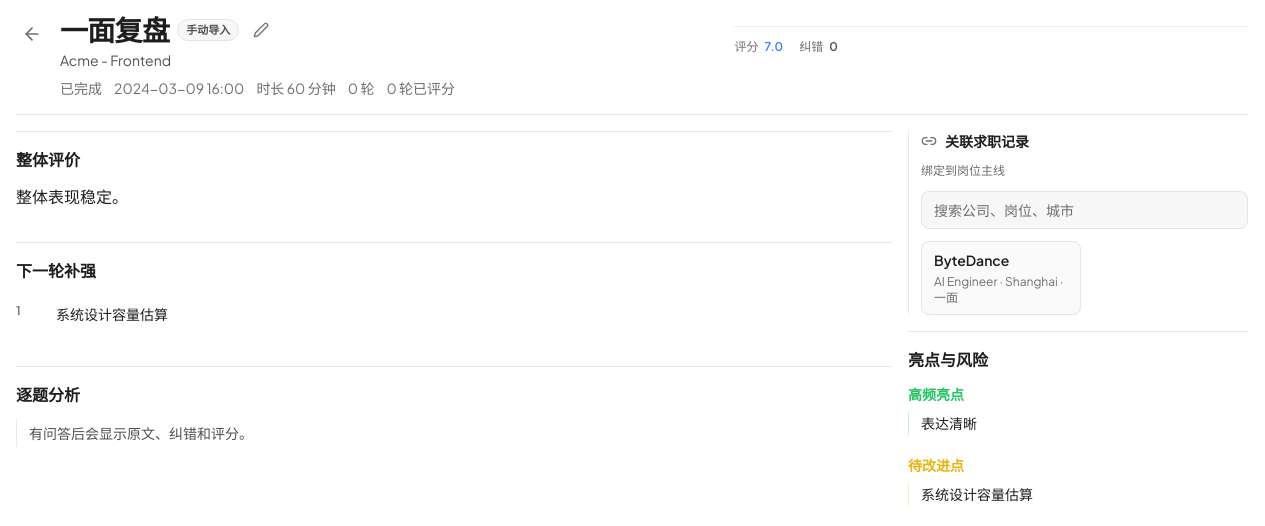
it: ReviewSessionDetail › binds a review session to a job tracker application
expect the heading "关联求职记录" is shown: met, box [921,131,1029,151]
Click the button "ByteDance AI Engineer · Shanghai · 一面" at (1001, 278), box [921,241,1080,315]
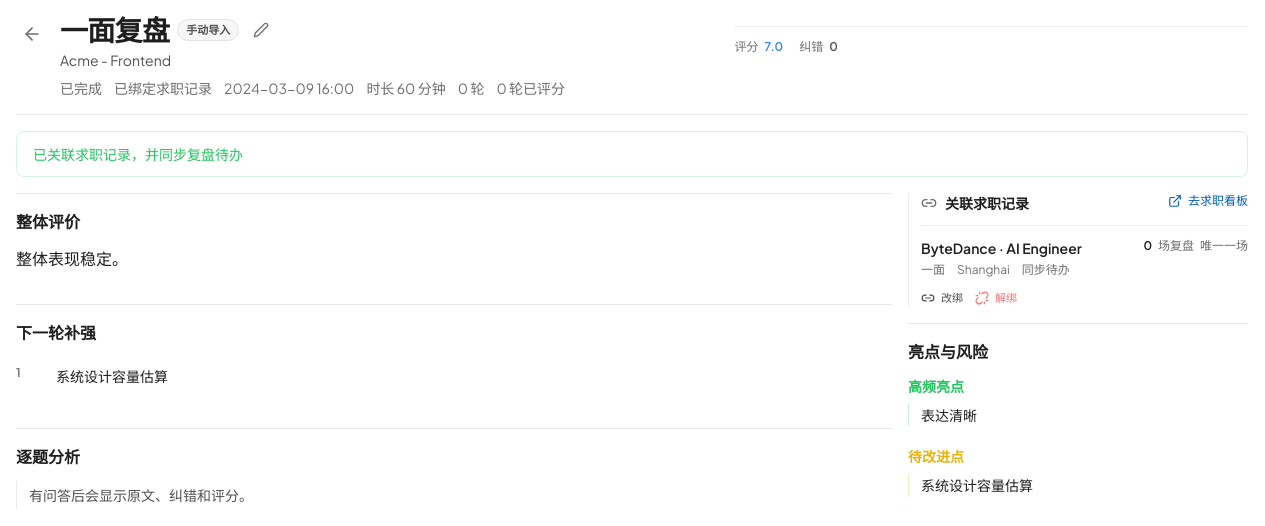
expect the text "ByteDance · AI Engineer" is shown: met, box [921,238,1082,258]
expect the text "已关联求职记录，并同步复盘待办" is shown: met, box [16,131,1248,177]
